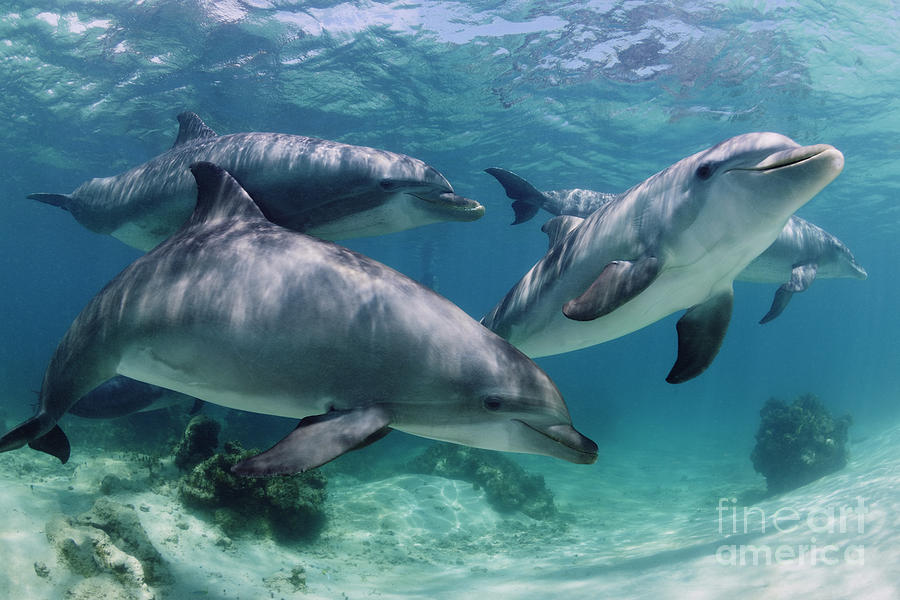dolphin: (18, 160, 606, 544), (476, 111, 845, 390), (43, 108, 492, 253)
